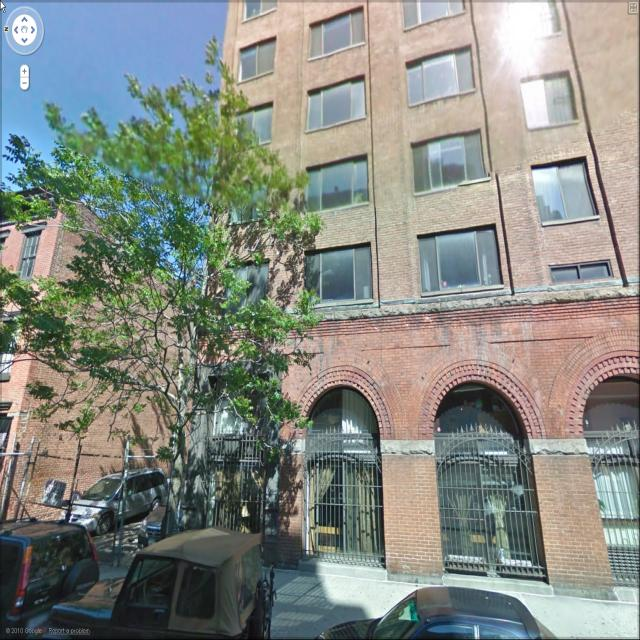b_1: (229, 5, 640, 535)
b_2: (0, 182, 206, 523)
